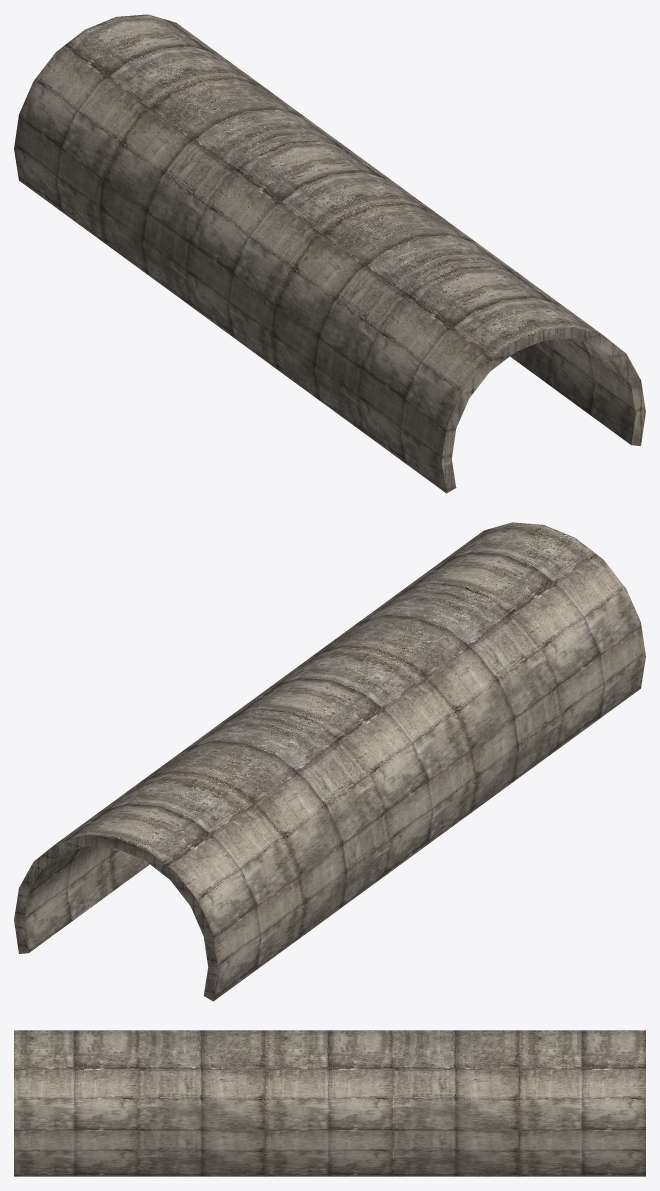
The model's file is tunel.fbx.
3 views of the same model, one above another, from view 1: azimuth 30°, elevation 25°; view 2: azimuth 150°, elevation 25°; view 3: azimuth 270°, elevation 25° (orthographic). The views are drawn at different scales.
Visible parts, largest first — view 1: pPipe1; view 2: pPipe1; view 3: pPipe1.
Part boxes in pixels (x1=…): pPipe1: x1=14, y1=14, x2=645, y2=493; pPipe1: x1=14, y1=522, x2=645, y2=1001; pPipe1: x1=14, y1=1030, x2=645, y2=1176.
Size of the model in its own units: 99.29 by 64.99 by 360.
